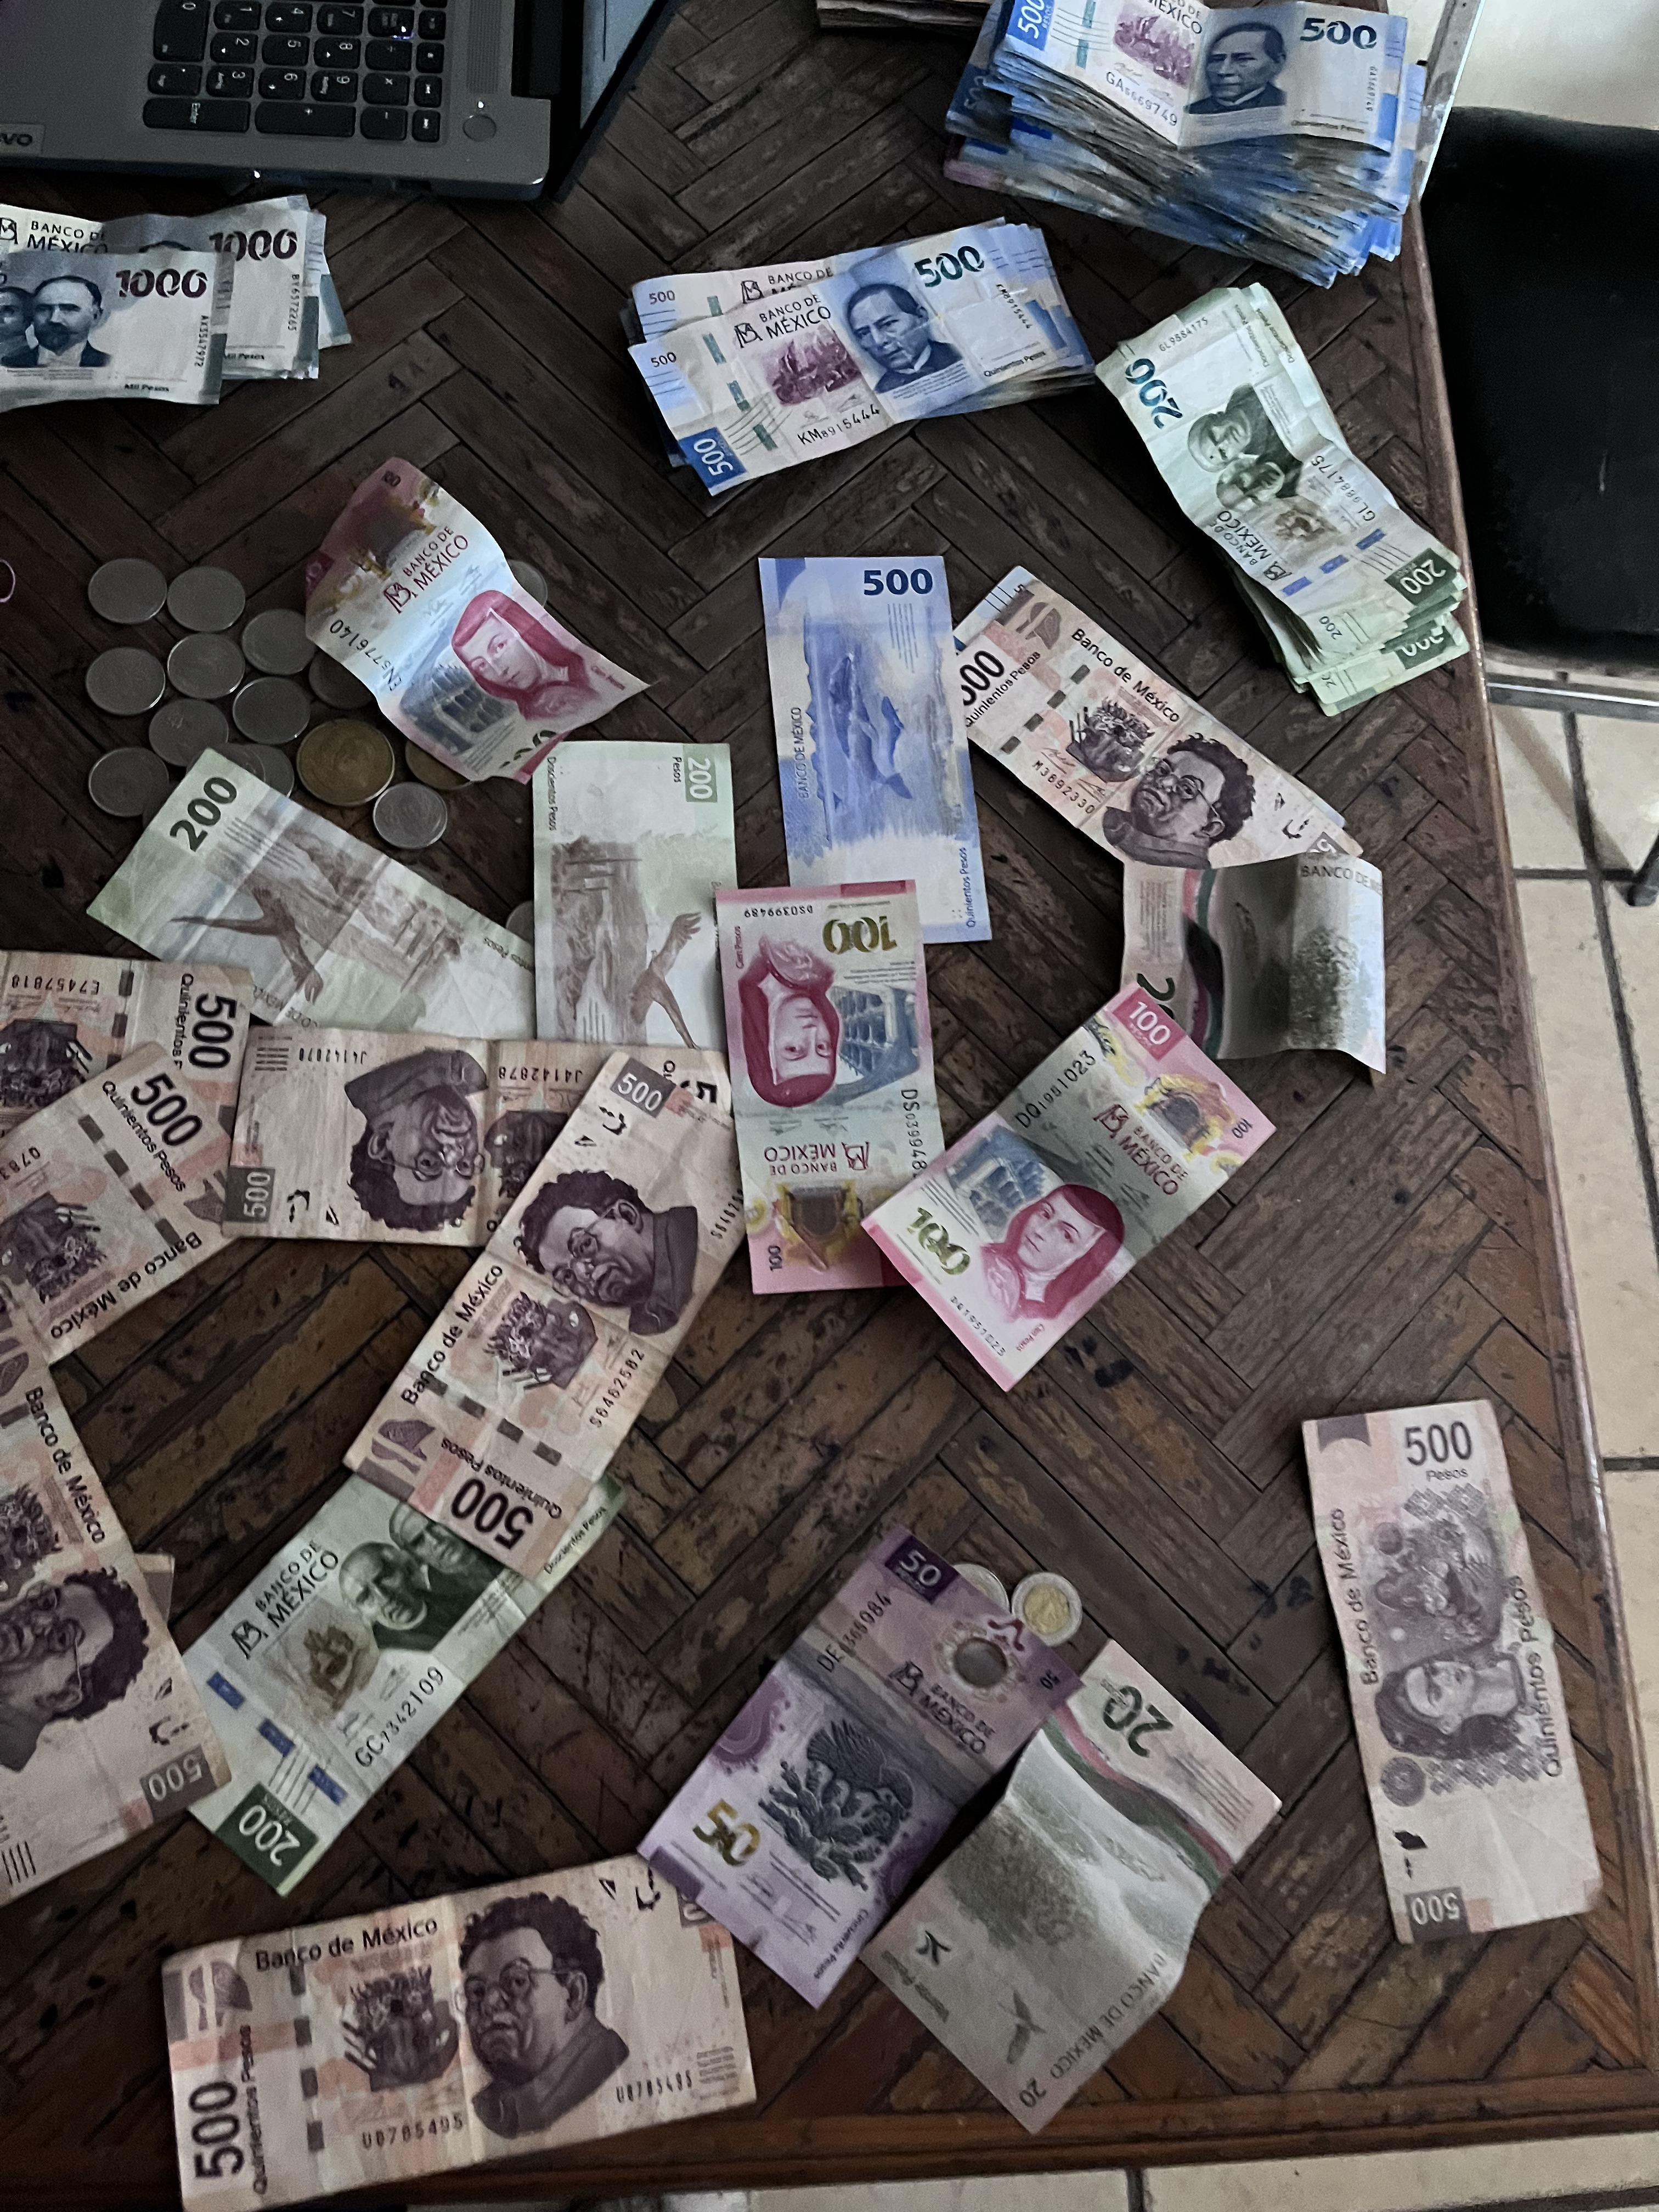100: (873, 974, 1317, 1362), (277, 455, 653, 813), (687, 867, 974, 1312)
1000: (9, 204, 383, 425)
20: (892, 1609, 1319, 2120), (1091, 848, 1445, 1064)
200: (167, 1423, 648, 1890), (1114, 268, 1480, 697), (87, 744, 589, 1040), (526, 716, 789, 1069)
50: (645, 1498, 1065, 2029)
500: (152, 1836, 758, 2212), (1281, 1383, 1614, 1966), (410, 1045, 763, 1564), (936, 552, 1366, 904), (221, 1012, 770, 1263), (0, 1289, 213, 1914), (0, 1035, 244, 1357), (10, 927, 270, 1172)
500 nuevo: (601, 204, 1100, 516), (965, 0, 1448, 266), (744, 540, 1006, 939)
